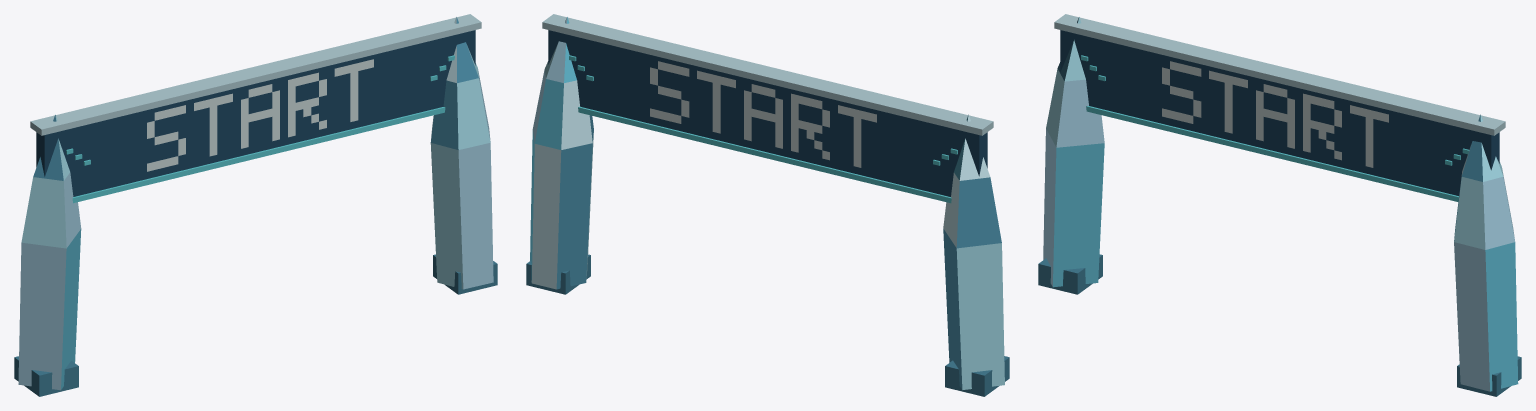
The model's file is start.glb.
3 renders of one model, left to right at view 1: azimuth 30°, elevation 25°; view 2: azimuth 150°, elevation 25°; view 3: azimuth 330°, elevation 25°, orthographic.
Visible parts, largest first — view 1: start; view 2: start; view 3: start.
Boxes of the visible parts, x1=… form: start: x1=14, y1=14, x2=497, y2=396; start: x1=526, y1=14, x2=1009, y2=396; start: x1=1038, y1=14, x2=1521, y2=396.
Size of the model in its own units: 10.24 by 5.5 by 1.28.
